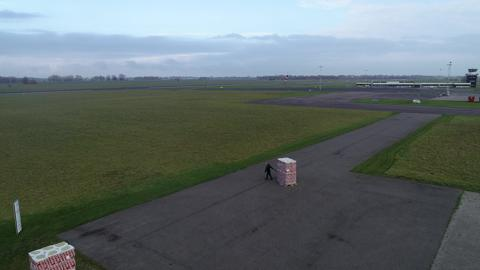RockwoolPallet: (28, 240, 74, 269)
